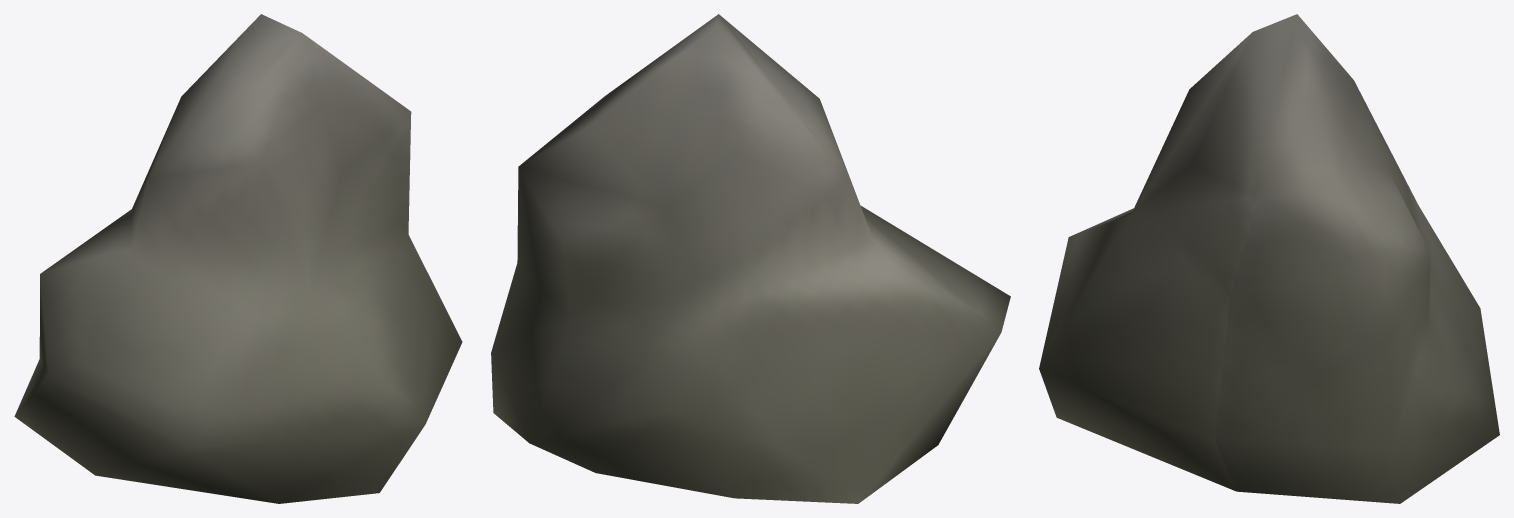
Rendered from Stones_Medium_04.FBX.
3 renders of one model, left to right at view 1: azimuth 30°, elevation 25°; view 2: azimuth 150°, elevation 25°; view 3: azimuth 270°, elevation 25°, orthographic. The views are drawn at different scales.
Visible parts, largest first — view 1: Stones_Medium_04; view 2: Stones_Medium_04; view 3: Stones_Medium_04.
Part boxes in pixels (x1,y1,x2,y2): Stones_Medium_04: (14,14,462,503); Stones_Medium_04: (491,14,1010,503); Stones_Medium_04: (1039,14,1499,503).
Bounding box in the file's own units: 261 × 228 × 236.
